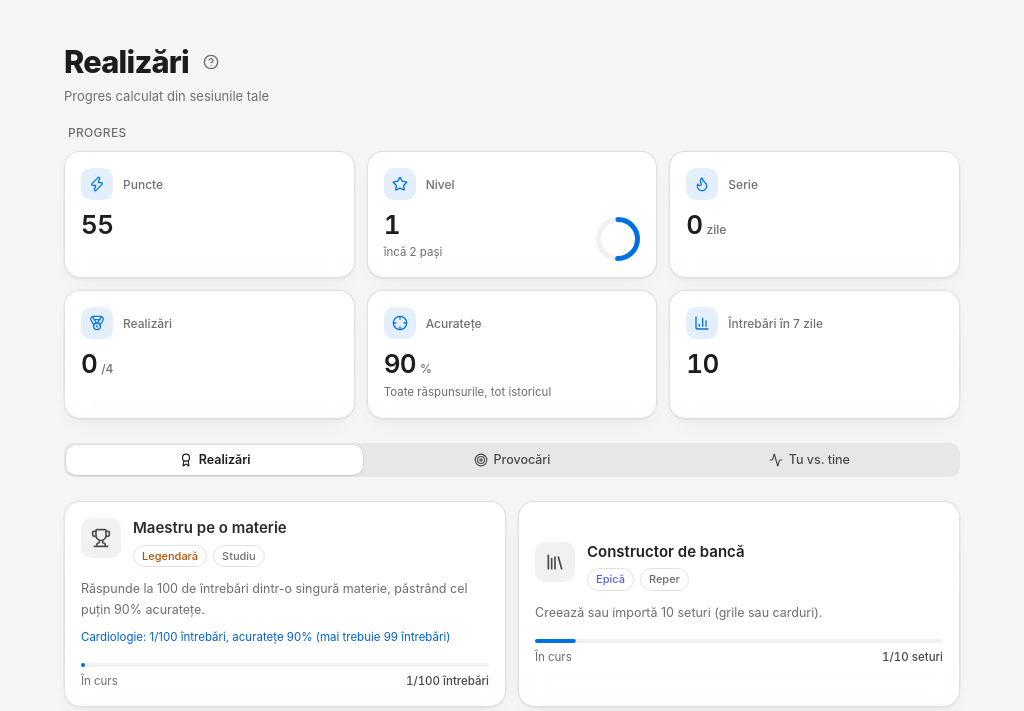
it: AIGamification with real data › points the challenges at places that exist
Step 1. Click the tab "Provocări" → (512, 460), box [363, 444, 661, 475]
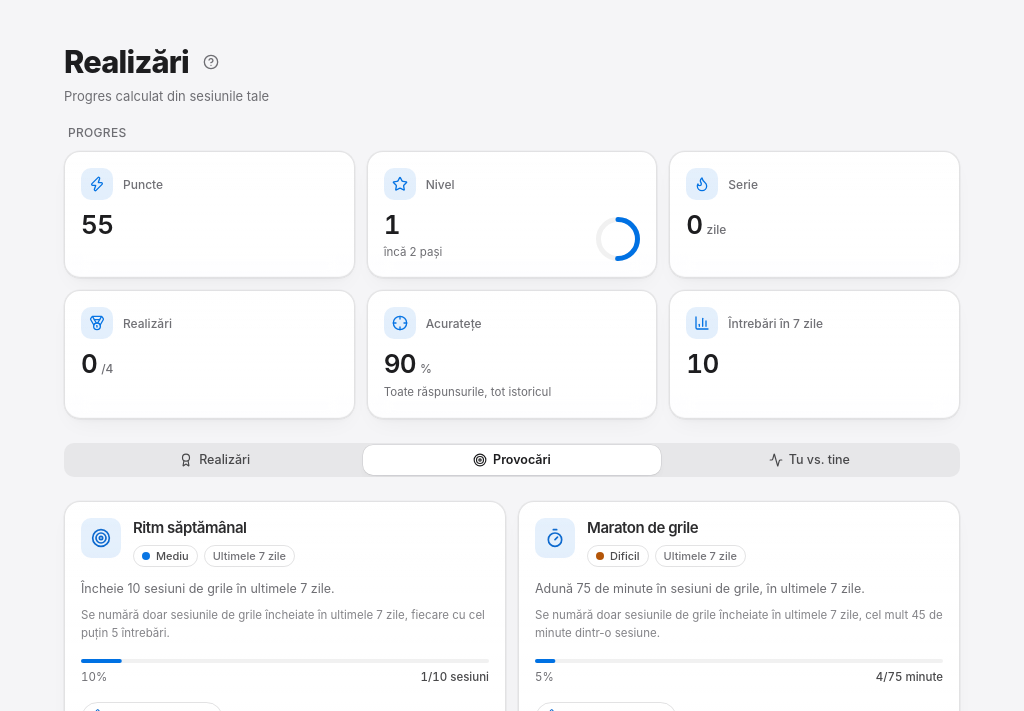
Now the text "Se numără doar sesiunile de grile încheiate în ultimele 7 zile" is shown 2 times, box [81, 606, 489, 643]; [535, 606, 943, 643]
